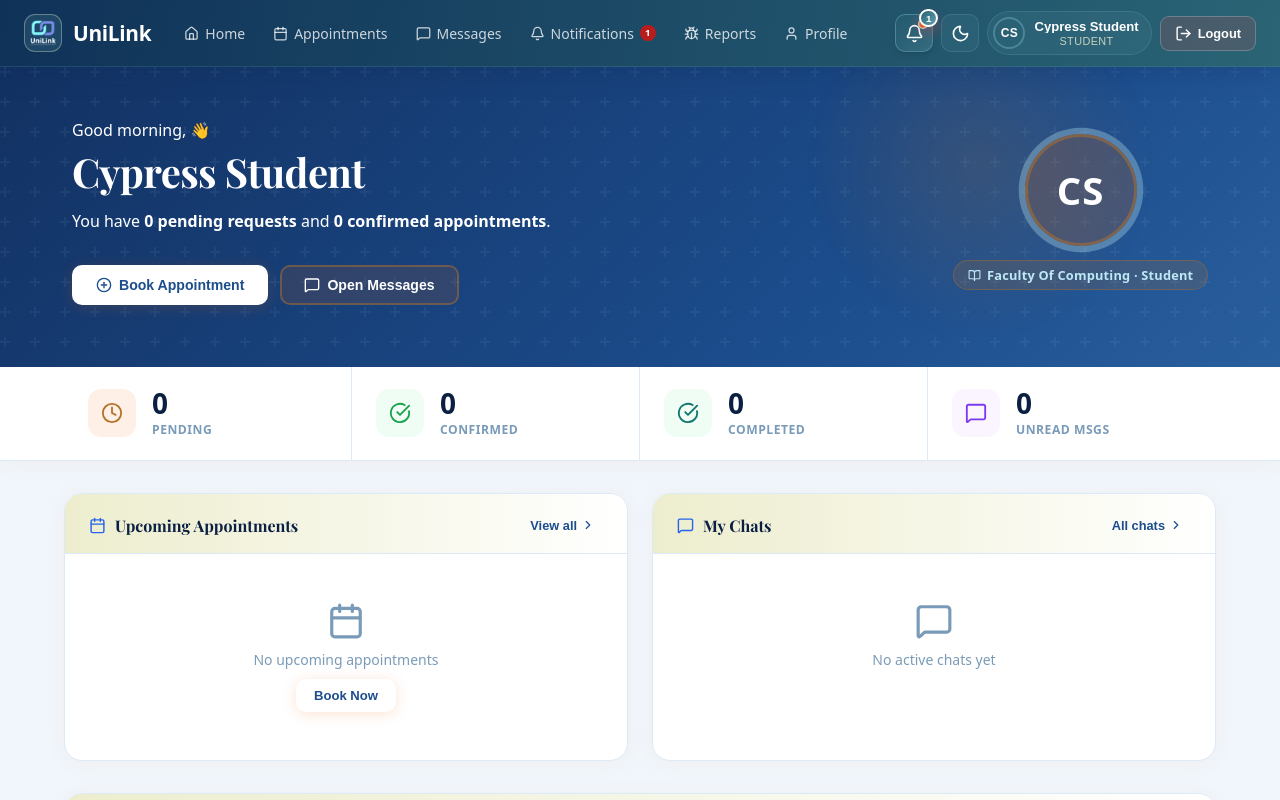
Test case: Chat Message › should load chat page
The width and height of the screenshot is (1280, 800).
Expected: the heading "My Chats" is shown, x1=677 y1=515 x2=772 y2=536
Click the button "All chats". click: (1148, 526)
box: x1=1104 y1=514 x2=1191 y2=537
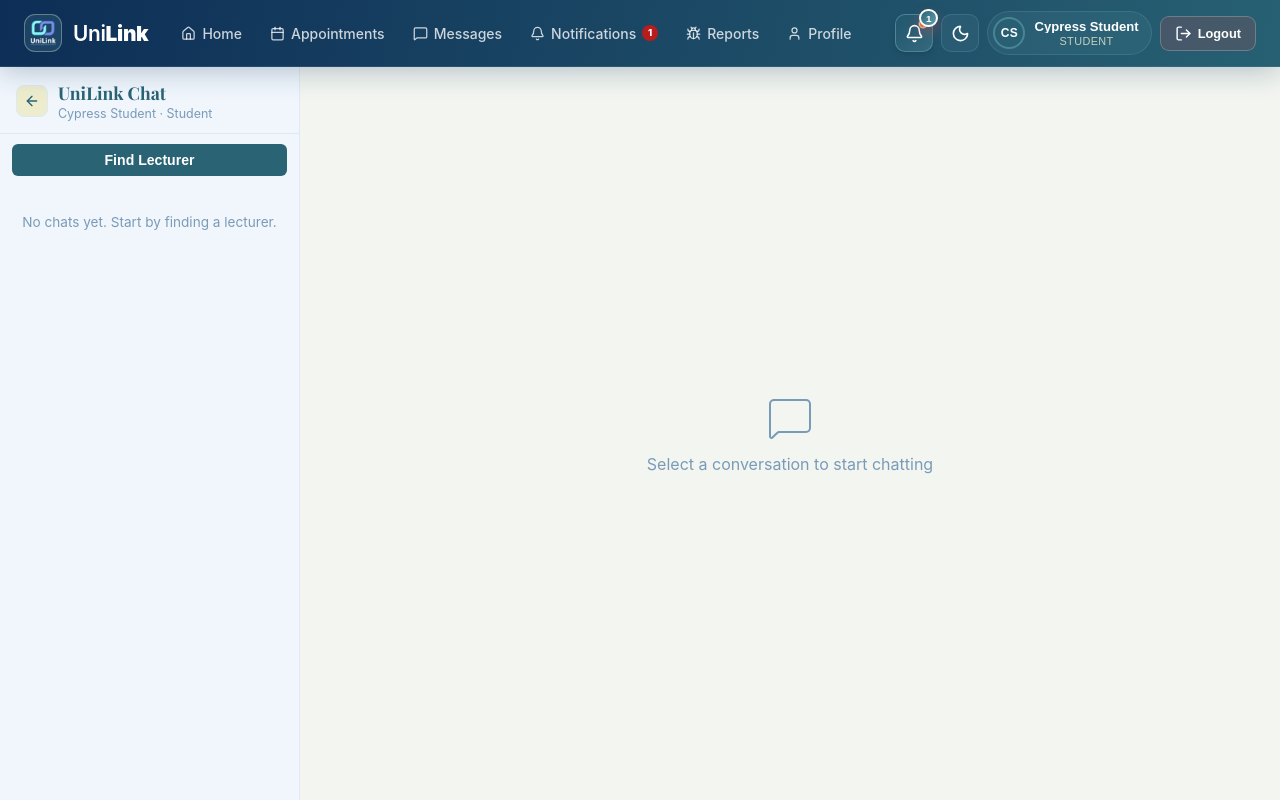
Expected: the heading "UniLink Chat" is shown, x1=58 y1=81 x2=166 y2=104
